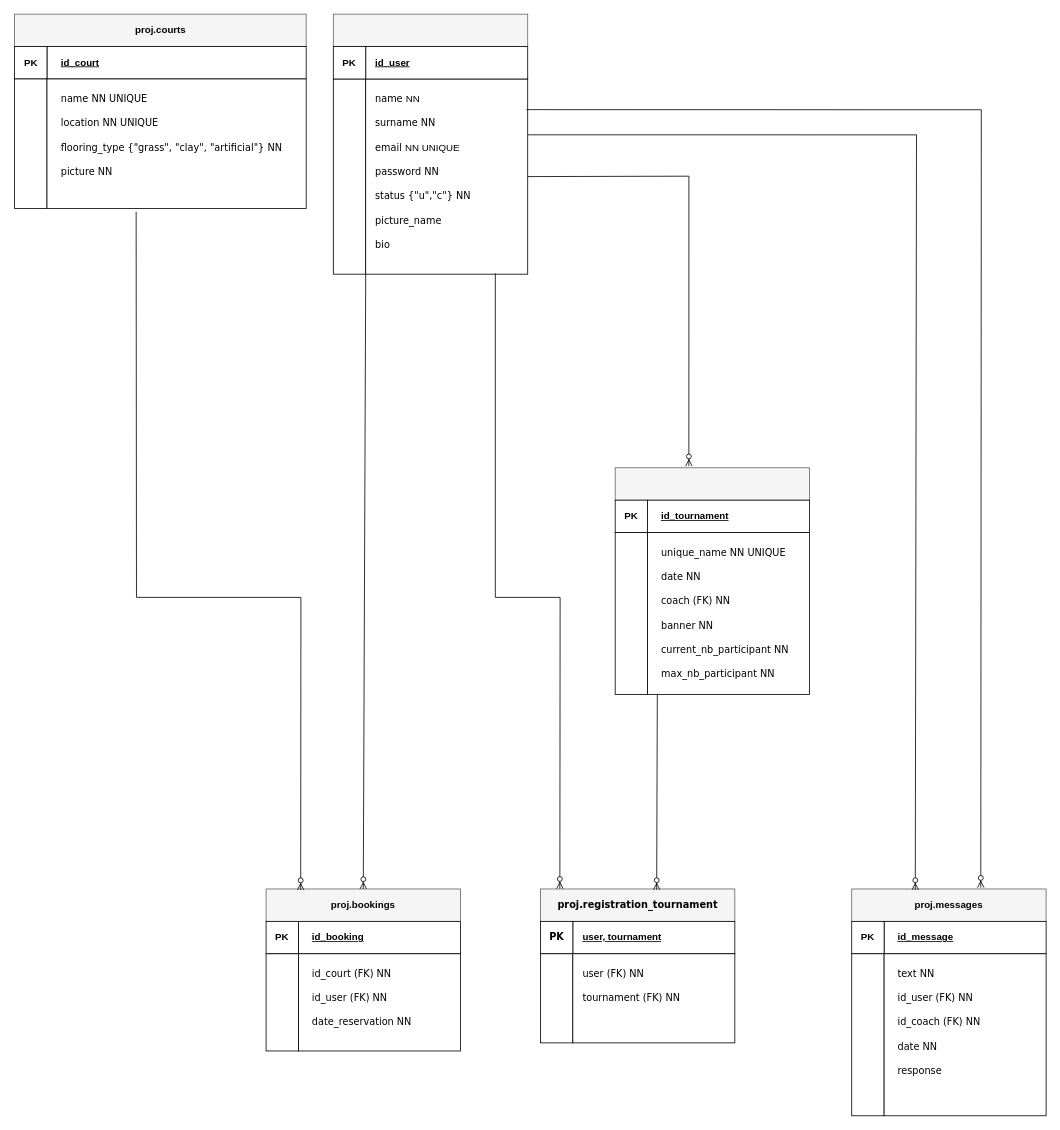
Some shapes in this 1060 by 1130 pixel diagram are drawn without their labels. The shapes that lost their labels are listed below. From the top down, each one's box as (x1, y1, x2, y2) in pixels, then its label:
(333, 13, 528, 47): proj.users
(614, 467, 810, 500): proj.tournaments
